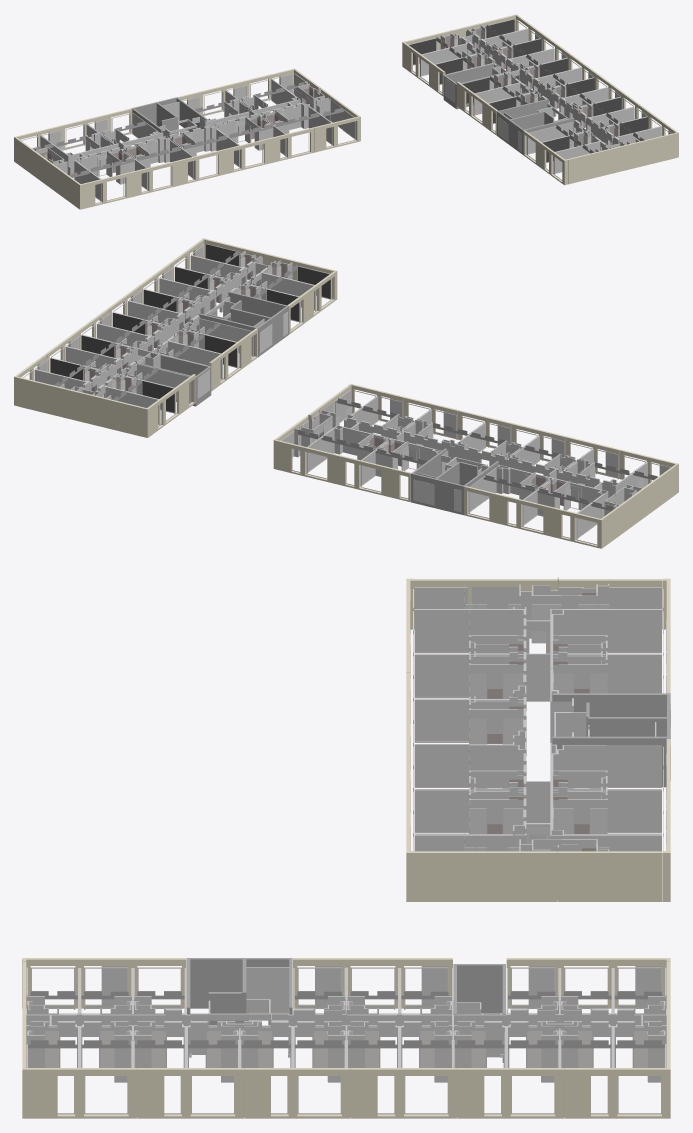
Rendered from model-part.gltf_walls_Piso 2.gltf.
3 views of the same model, one above another, from view 1: azimuth 30°, elevation 25°; view 2: azimuth 150°, elevation 25°; view 3: azimuth 270°, elevation 25° (orthographic). The views are drawn at different scales.
Bounding box in the file's own units: 65.53 × 3.66 × 36.62.
